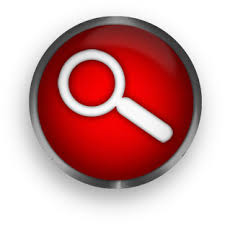searchIcon: (57, 48, 174, 142)
